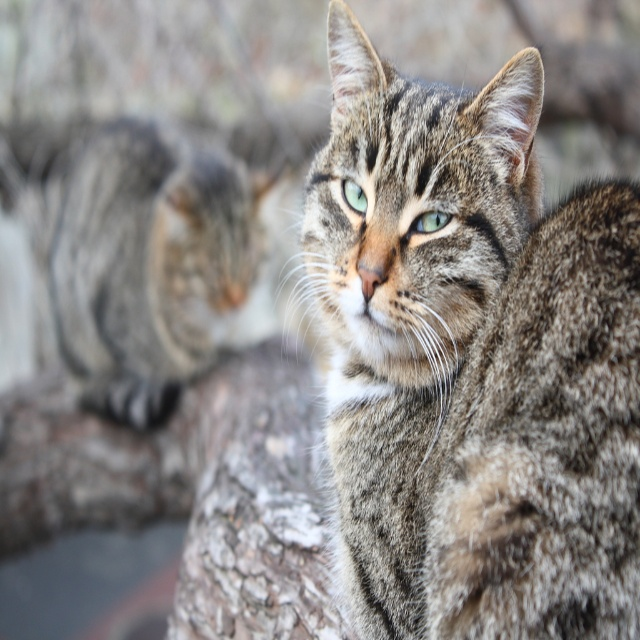Lynx: (268, 0, 640, 640)
